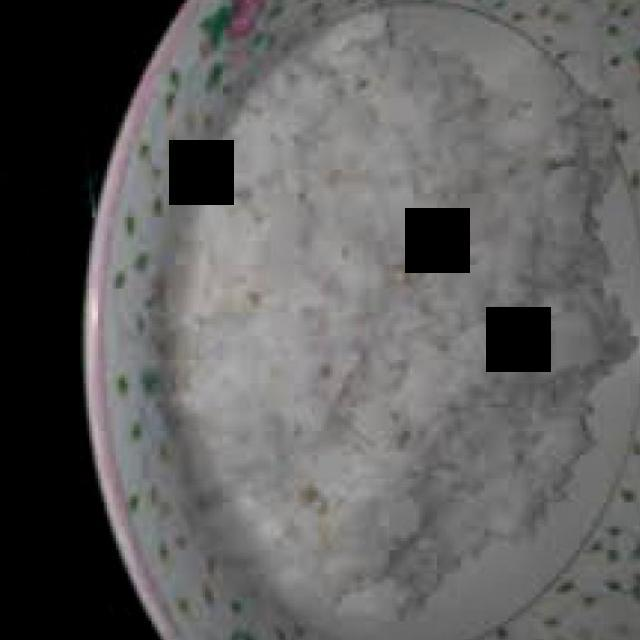rice: (182, 33, 638, 619)
